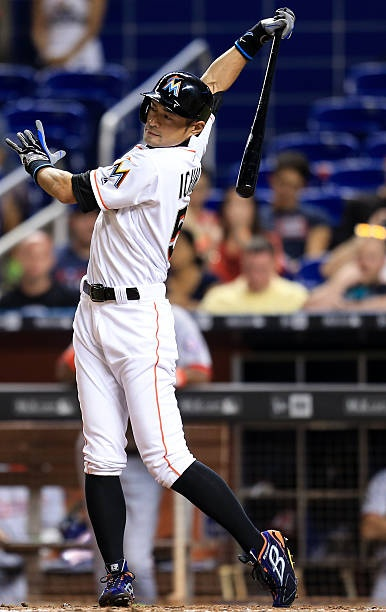bita: (232, 18, 297, 199)
